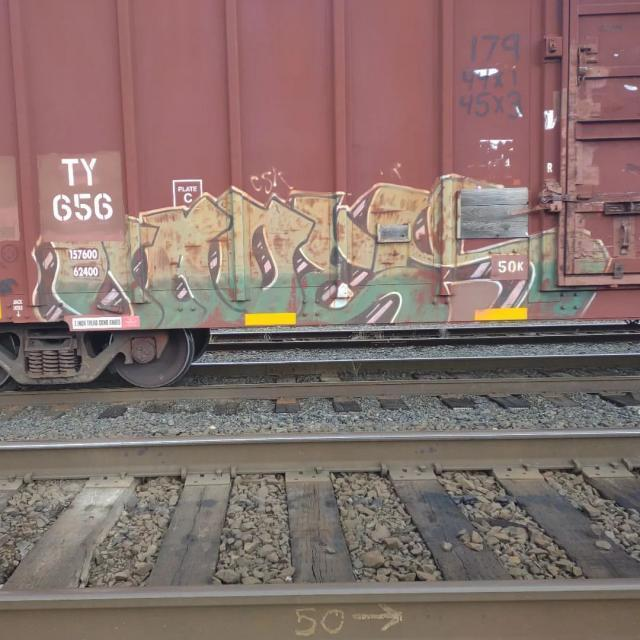nonspitting: (37, 176, 613, 329)
